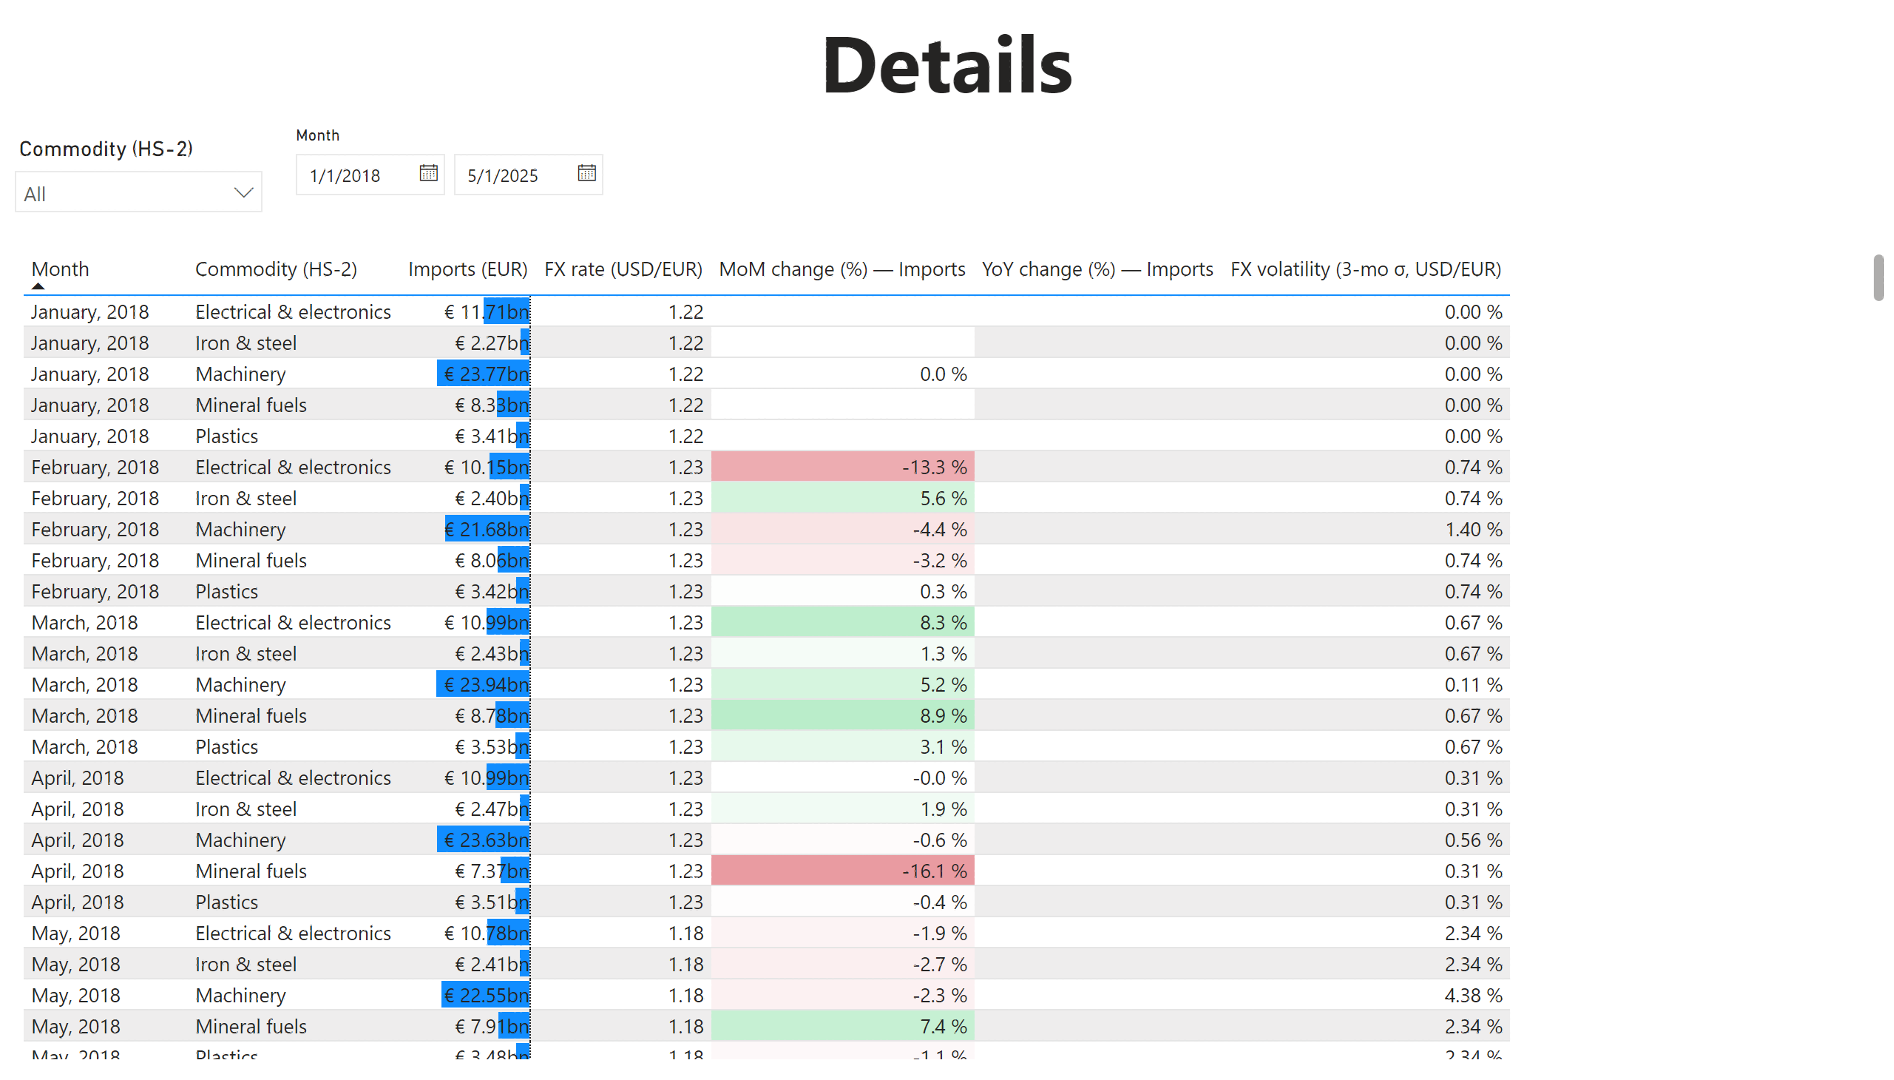

This screenshot's page, from the dashboard's own definition file:
{"tool":"powerbi","page":{"name":"Details / Drillthrough","canvas":[1280,720],"ordinal":4},"visuals":[{"type":"tableEx","fields":{"Values":["gold_monthly_metrics.month","gold_monthly_metrics.cmdDesc","Sum(gold_monthly_metrics.import_eur)","Avg(gold_monthly_metrics.USD_per_EUR)","Avg(gold_monthly_metrics.eur_mom_pct)","Avg(gold_monthly_metrics.eur_yoy_pct)","Sum(gold_monthly_metrics.fx_vol_3m)"]},"box":[10.2,165.6,1269.8,555],"z":0},{"type":"slicer","fields":{"Values":["gold_monthly_metrics.cmdDesc"]},"box":[0,87.2,187.4,78.5],"z":1000},{"type":"slicer","fields":{"Values":["gold_monthly_metrics.month"]},"box":[187.4,79.9,1092.6,85.7],"z":2000},{"type":"textbox","box":[0,0,1280,87.2],"z":2001}]}

Visuals, with their boxes in screenshot pixels (x1, y1, x2, y2), scaled from the page's 1280x720 canvas onto the 1894x1080 screenshot:
tableEx - gold_monthly_metrics.month x gold_monthly_metrics.cmdDesc: [left=15, top=248, right=1893, bottom=1079]
slicer - gold_monthly_metrics.cmdDesc: [left=0, top=131, right=277, bottom=249]
slicer - gold_monthly_metrics.month: [left=277, top=120, right=1893, bottom=248]
textbox: [left=0, top=0, right=1893, bottom=131]
